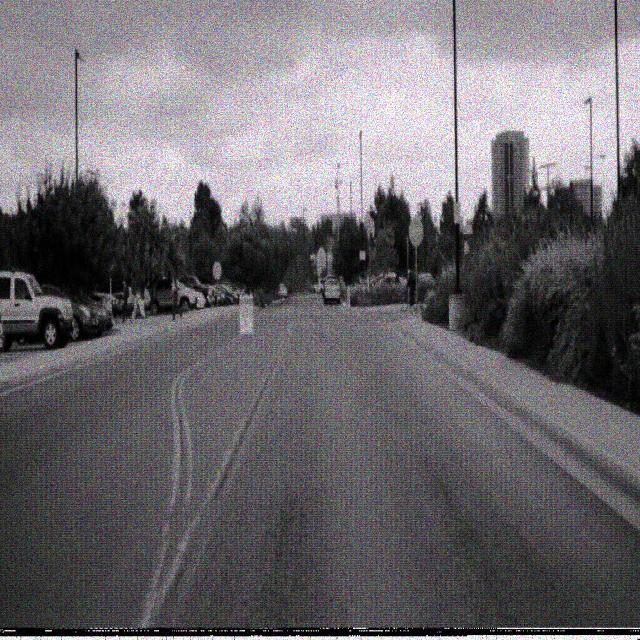stop: (408, 217, 424, 246)
